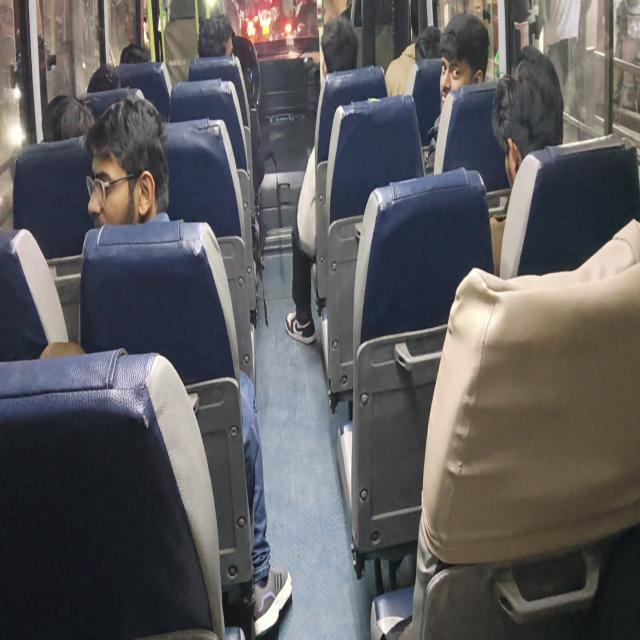person: (93, 105, 160, 222), (322, 18, 408, 86), (434, 31, 478, 128), (497, 76, 538, 154), (58, 92, 106, 144), (202, 17, 238, 56), (93, 53, 120, 97), (415, 36, 443, 67), (131, 39, 155, 70)
